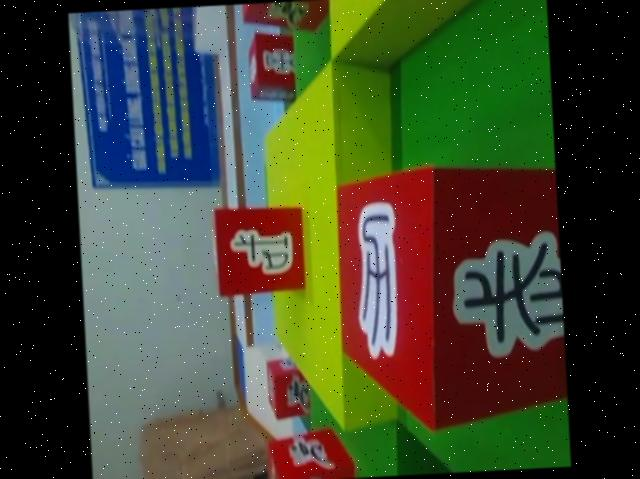R1: (261, 423, 356, 479), (238, 0, 334, 37), (264, 354, 312, 421)
R2 Fake: (328, 156, 570, 439)
R2 Real: (211, 202, 309, 300), (245, 30, 301, 108)
